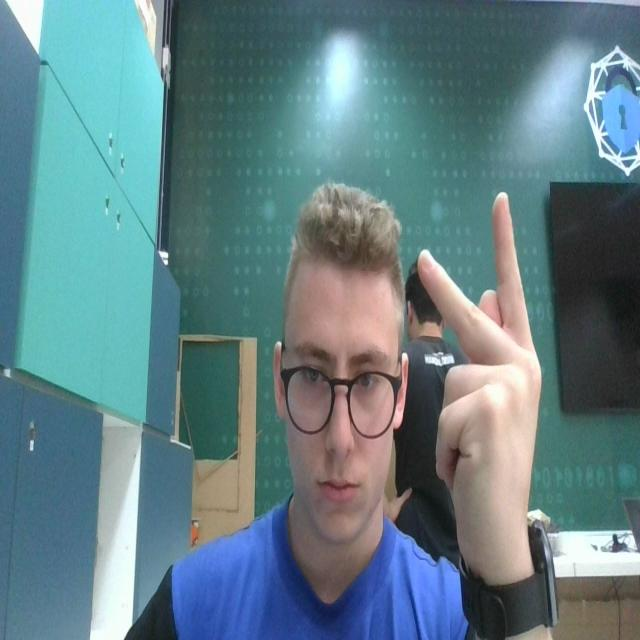K: (414, 187, 542, 553)
